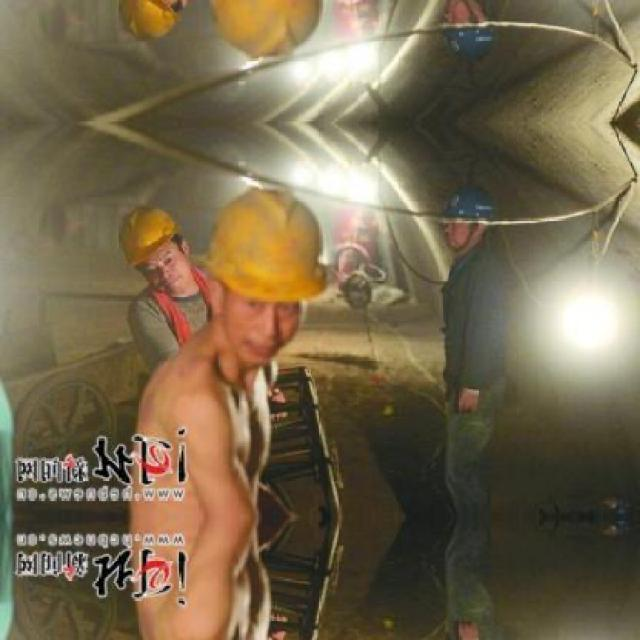con casco: (198, 168, 338, 361), (41, 204, 239, 300), (386, 199, 528, 301)
